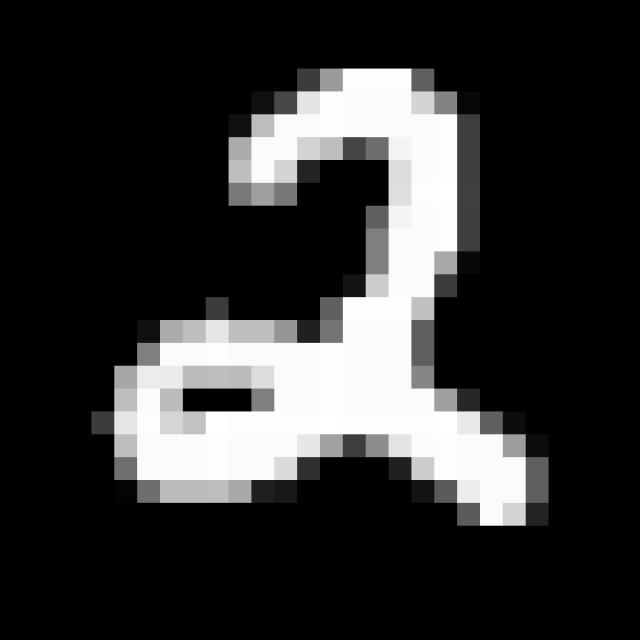two -2-: (103, 67, 561, 554)
